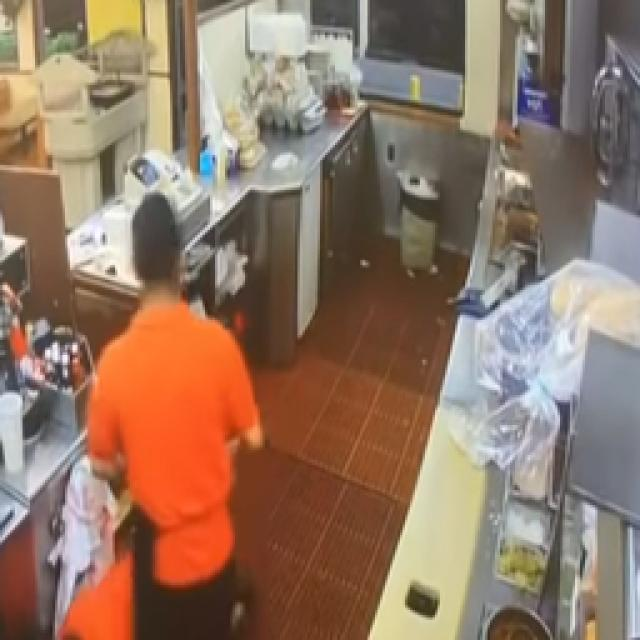person: (62, 190, 262, 635)
